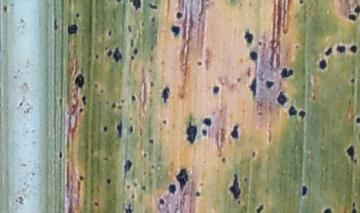tarspot: (229, 171, 242, 201), (176, 168, 190, 191), (186, 122, 198, 143), (345, 143, 357, 164), (229, 122, 241, 141), (160, 84, 170, 104), (248, 75, 257, 97), (74, 73, 86, 89), (128, 1, 143, 13), (280, 67, 295, 79), (122, 158, 133, 174), (112, 46, 122, 63), (277, 90, 288, 105), (171, 23, 182, 37), (243, 30, 254, 44), (247, 50, 259, 61), (297, 108, 308, 120), (67, 23, 78, 34), (116, 120, 123, 137), (202, 116, 212, 127), (167, 183, 177, 194), (264, 78, 275, 88), (148, 2, 160, 11), (319, 58, 327, 71), (300, 184, 308, 197), (336, 45, 347, 54), (288, 105, 297, 116), (52, 19, 59, 31), (350, 201, 357, 213), (256, 203, 264, 213), (175, 11, 183, 20), (348, 14, 357, 22), (349, 45, 358, 53), (212, 85, 219, 95), (325, 47, 332, 57), (92, 199, 100, 207), (80, 95, 87, 104), (125, 204, 132, 213), (201, 127, 208, 136), (158, 197, 165, 206), (354, 4, 360, 14), (57, 151, 64, 159), (77, 174, 85, 181), (128, 125, 135, 133), (196, 59, 203, 67), (256, 40, 264, 47), (353, 115, 360, 123), (310, 93, 317, 101), (129, 38, 134, 49), (150, 15, 156, 24), (127, 24, 132, 34), (106, 50, 113, 57), (103, 155, 110, 162), (235, 75, 242, 82), (2, 5, 8, 13), (74, 11, 80, 19), (106, 29, 112, 37), (149, 79, 155, 87), (293, 43, 299, 51), (195, 189, 201, 197), (242, 174, 248, 182), (324, 207, 332, 213), (251, 150, 256, 159), (77, 107, 84, 113), (105, 178, 112, 184), (94, 53, 100, 60), (111, 102, 117, 109), (102, 125, 108, 132), (125, 183, 131, 190), (142, 169, 148, 176), (147, 138, 154, 144), (161, 119, 168, 125), (131, 94, 136, 102), (142, 152, 148, 158), (129, 54, 135, 60), (140, 21, 146, 27), (149, 44, 155, 50), (131, 193, 136, 200), (133, 48, 138, 55), (221, 156, 226, 163), (93, 83, 99, 88), (141, 184, 146, 190), (133, 181, 138, 187), (150, 164, 156, 169), (350, 78, 355, 84), (257, 110, 263, 115), (72, 93, 77, 99), (118, 104, 122, 111), (121, 98, 126, 103), (100, 88, 104, 94), (298, 1, 304, 5), (116, 1, 123, 4)
